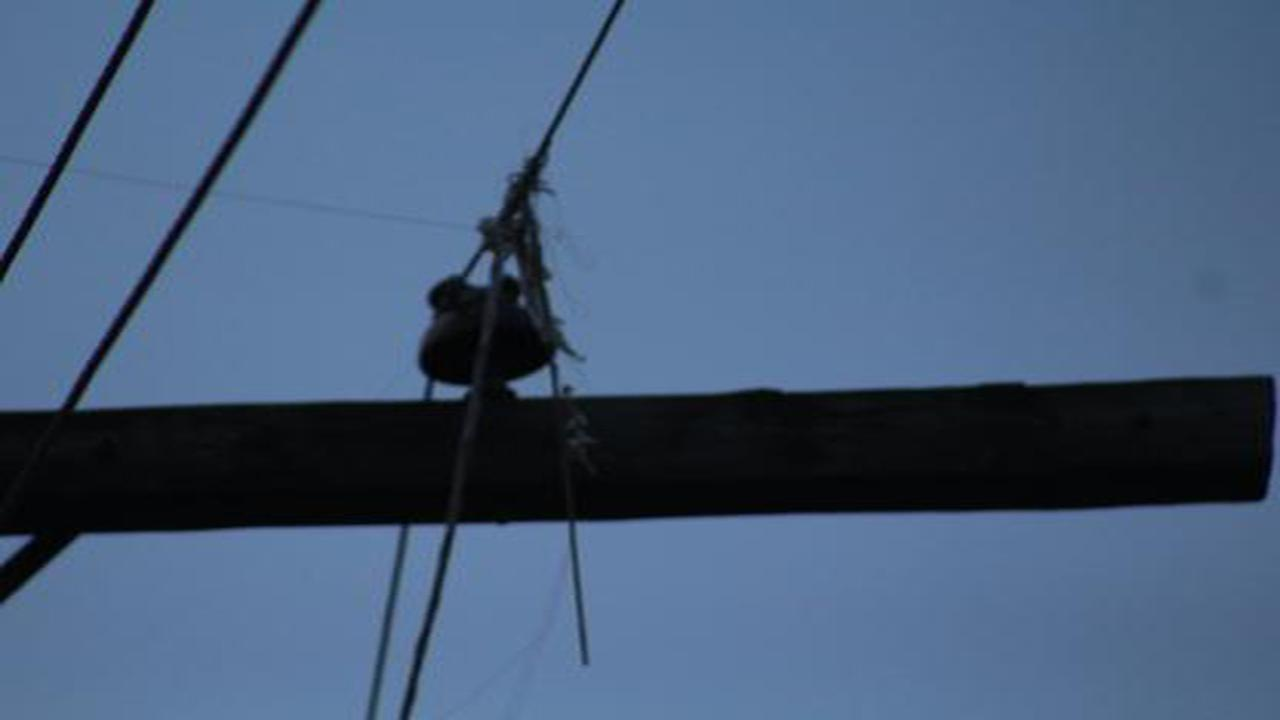insulator_pin: (414, 267, 562, 398)
